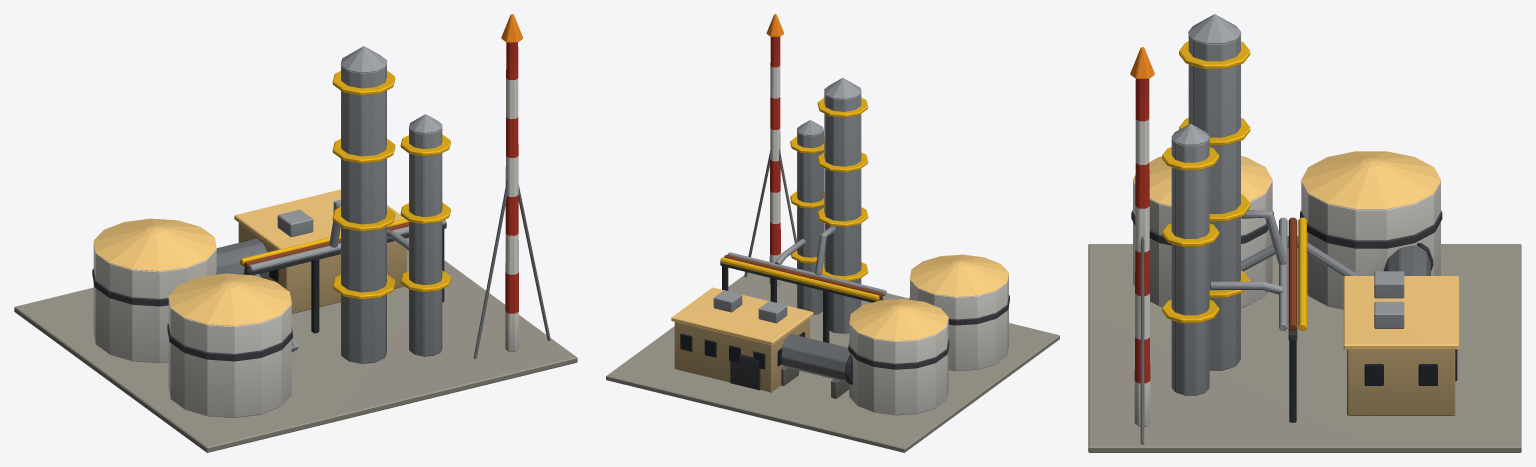
File: refinery.glb
3 renders of one model, left to right at view 1: azimuth 30°, elevation 25°; view 2: azimuth 150°, elevation 25°; view 3: azimuth 270°, elevation 25°, orthographic. The views are drawn at different scales.
Parts seen in each view (by area): view 1: refinery; view 2: refinery; view 3: refinery.
Boxes of the visible parts, x1,y1,x2,y2 form: refinery: [14, 14, 577, 452]; refinery: [606, 14, 1059, 452]; refinery: [1088, 14, 1521, 452].
Size of the model in its own units: 4 by 3.51 by 3.6.
